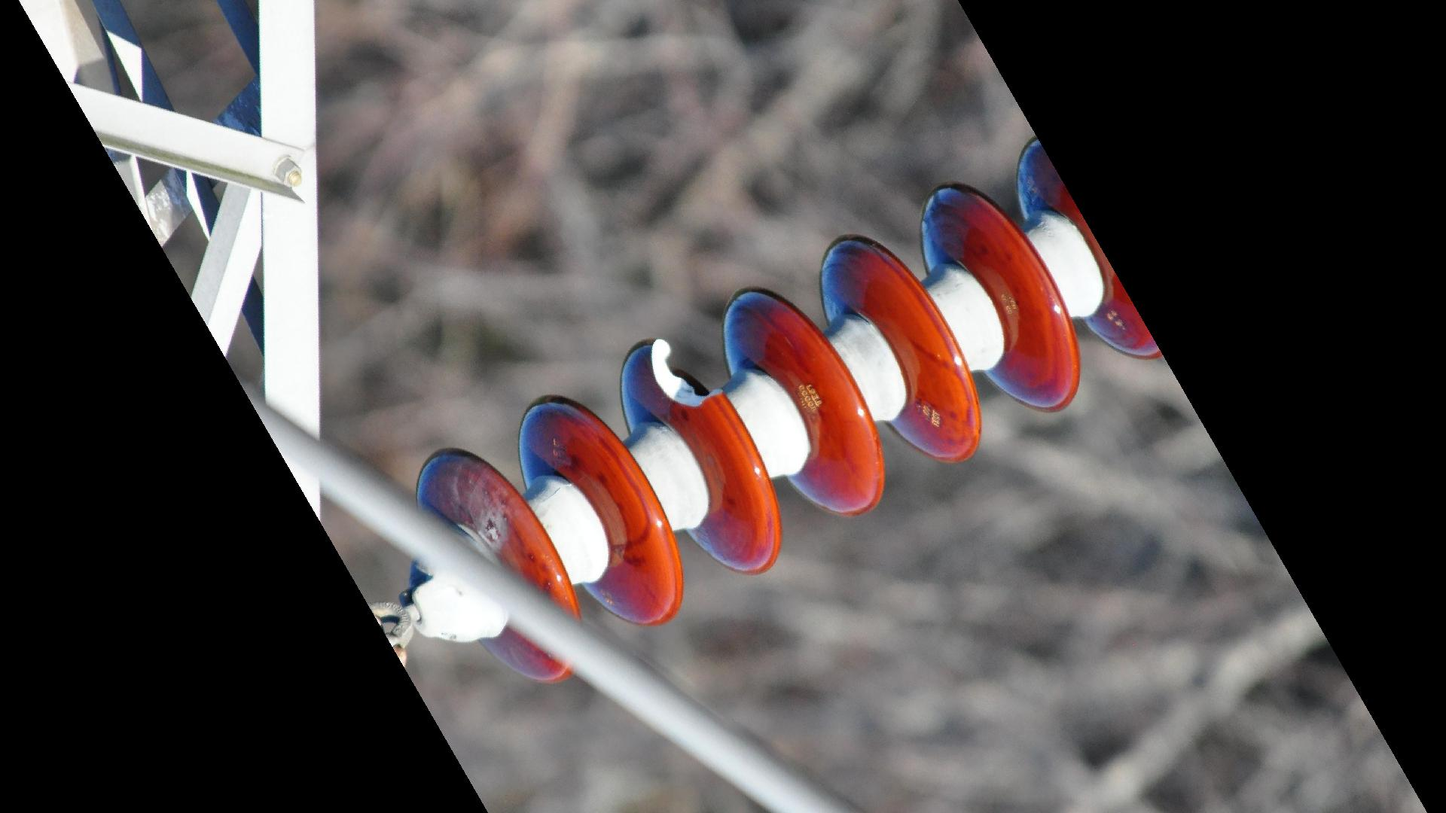insulator: (409, 131, 1174, 690)
insulator_breakage: (636, 330, 737, 424)
